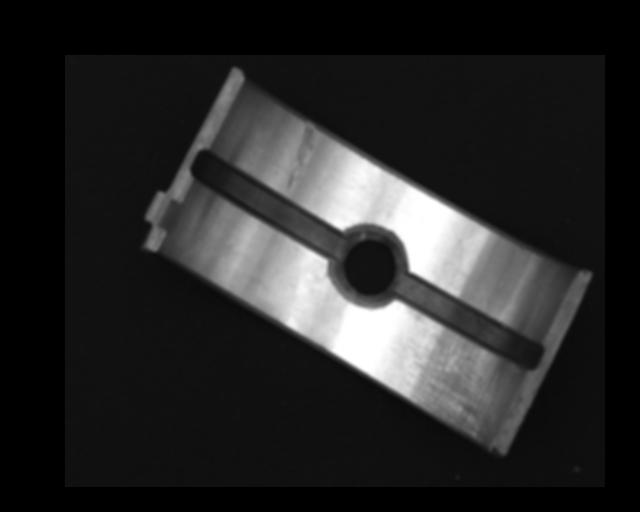gap: (192, 149, 341, 260), (394, 274, 546, 369)
hole: (334, 228, 405, 309)
nick: (284, 119, 318, 189)
scratch: (400, 330, 502, 436)
